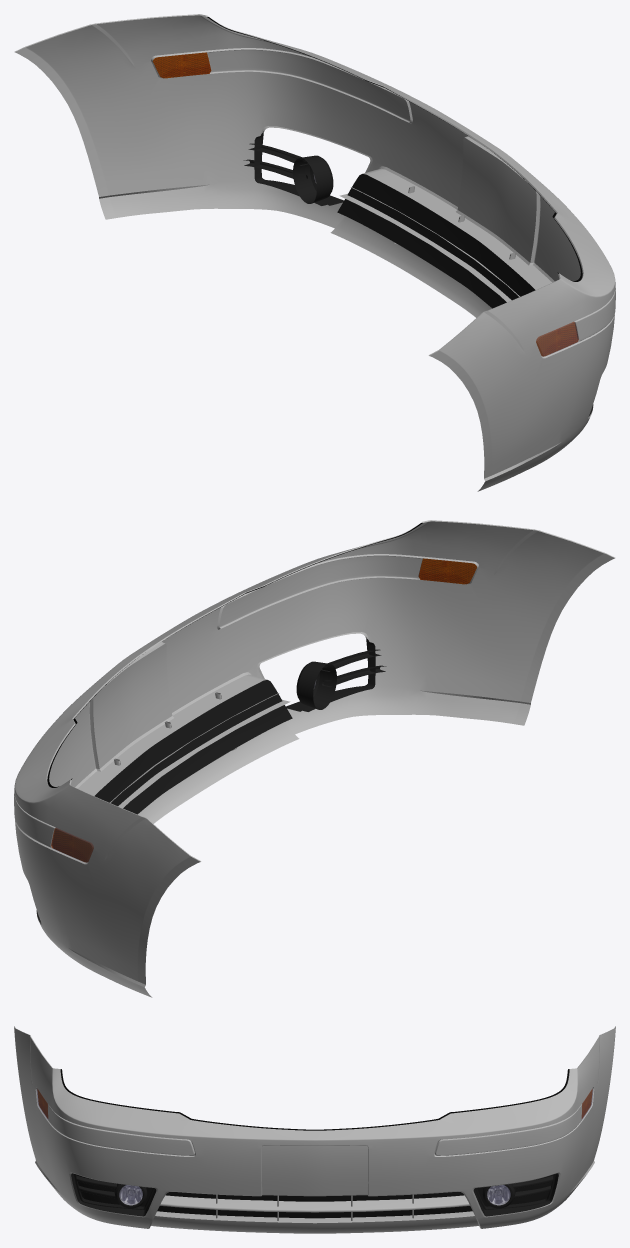
3 renders of one model, top to bottom at view 1: azimuth 30°, elevation 25°; view 2: azimuth 150°, elevation 25°; view 3: azimuth 270°, elevation 25°, orthographic. The views are drawn at different scales.
Parts seen in each view (by area): view 1: P158_021G_C_6_DaS_P158_021G_C, P158_021G_C_6_DaS_P158_021G_C_E, P158_021G_C_P158_021G_C_7_D, P158_021G_C_P158_021G_C_3_D, P158_021G_C_P158_021G_C_2_N, P158_021G_C_P158_021G_C_12_DTaSI, P158_021G_C_P158_021G_C_1_N; view 2: P158_021G_C_6_DaS_P158_021G_C, P158_021G_C_6_DaS_P158_021G_C_E, P158_021G_C_P158_021G_C_7_D, P158_021G_C_P158_021G_C_3_D, P158_021G_C_P158_021G_C_1_N, P158_021G_C_P158_021G_C_8_DTaSI, P158_021G_C_P158_021G_C_2_N; view 3: P158_021G_C_6_DaS_P158_021G_C, P158_021G_C_6_DaS_P158_021G_C_E, P158_021G_C_P158_021G_C_3_D, P158_021G_C_P158_021G_C_7_D, P158_021G_C_P158_021G_C_9_D, P158_021G_C_P158_021G_C_4_N, P158_021G_C_P158_021G_C_5_N, P158_021G_C_P158_021G_C_11_DTaSI, P158_021G_C_P158_021G_C_10_DTaSI.
Boxes of the visible parts, <box> form: P158_021G_C_6_DaS_P158_021G_C: <box>15,15,615,491</box>; P158_021G_C_6_DaS_P158_021G_C_E: <box>14,14,615,418</box>; P158_021G_C_P158_021G_C_7_D: <box>337,174,535,308</box>; P158_021G_C_P158_021G_C_3_D: <box>243,131,593,416</box>; P158_021G_C_P158_021G_C_2_N: <box>153,52,211,78</box>; P158_021G_C_P158_021G_C_12_DTaSI: <box>536,322,578,356</box>; P158_021G_C_P158_021G_C_1_N: <box>536,322,578,356</box>; P158_021G_C_6_DaS_P158_021G_C: <box>14,521,614,997</box>; P158_021G_C_6_DaS_P158_021G_C_E: <box>14,520,615,924</box>; P158_021G_C_P158_021G_C_7_D: <box>94,680,292,814</box>; P158_021G_C_P158_021G_C_3_D: <box>36,637,386,922</box>; P158_021G_C_P158_021G_C_1_N: <box>418,558,476,584</box>; P158_021G_C_P158_021G_C_8_DTaSI: <box>51,828,93,862</box>; P158_021G_C_P158_021G_C_2_N: <box>51,828,93,862</box>; P158_021G_C_6_DaS_P158_021G_C: <box>14,1027,615,1233</box>; P158_021G_C_6_DaS_P158_021G_C_E: <box>14,1026,615,1228</box>; P158_021G_C_P158_021G_C_3_D: <box>71,1173,558,1216</box>; P158_021G_C_P158_021G_C_7_D: <box>157,1192,472,1218</box>; P158_021G_C_P158_021G_C_9_D: <box>60,1069,569,1130</box>; P158_021G_C_P158_021G_C_4_N: <box>119,1185,142,1205</box>; P158_021G_C_P158_021G_C_5_N: <box>487,1185,510,1205</box>; P158_021G_C_P158_021G_C_11_DTaSI: <box>487,1185,510,1204</box>; P158_021G_C_P158_021G_C_10_DTaSI: <box>119,1185,142,1204</box>.
Size of the model in its own units: 83.69 by 53.04 by 211.
